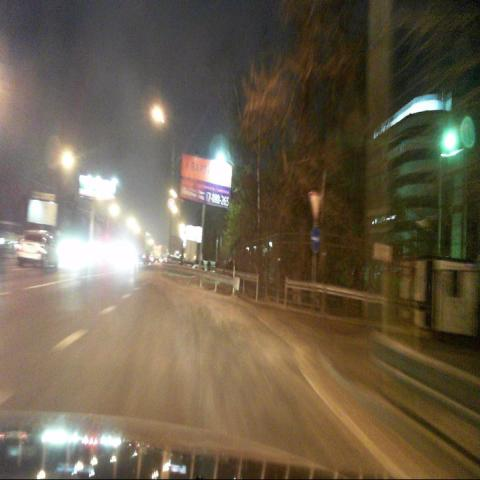2_4: (308, 191, 321, 224)
4_1_2_1: (310, 227, 319, 252)
